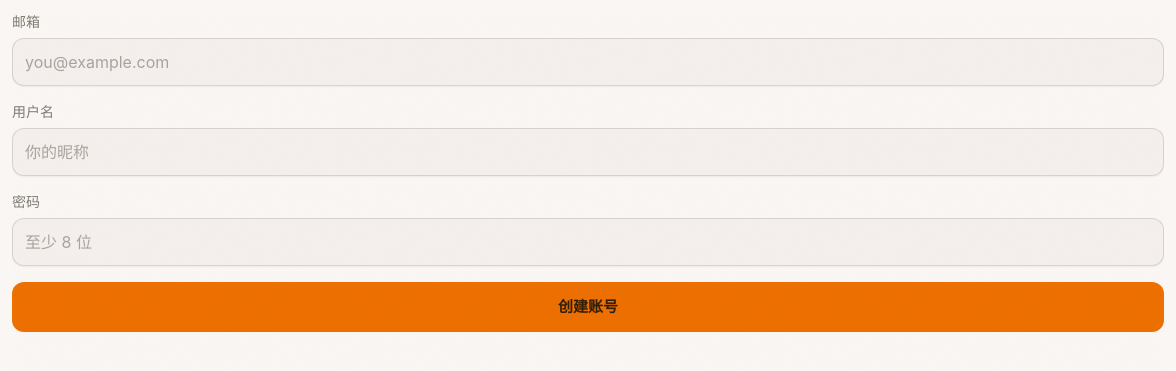
Test: RegisterForm › shows short username validation error
This screenshot has width=1176, height=371.
Type "a@b.com" into the field labelled "邮箱" at (588, 62), box [12,38,1164,86]
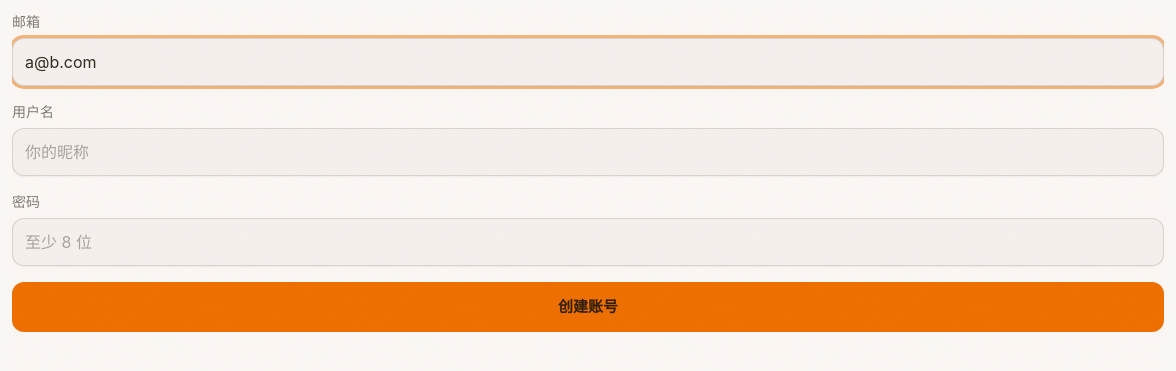
Type "x" into the field labelled "用户名" at (588, 152), box [12,128,1164,176]
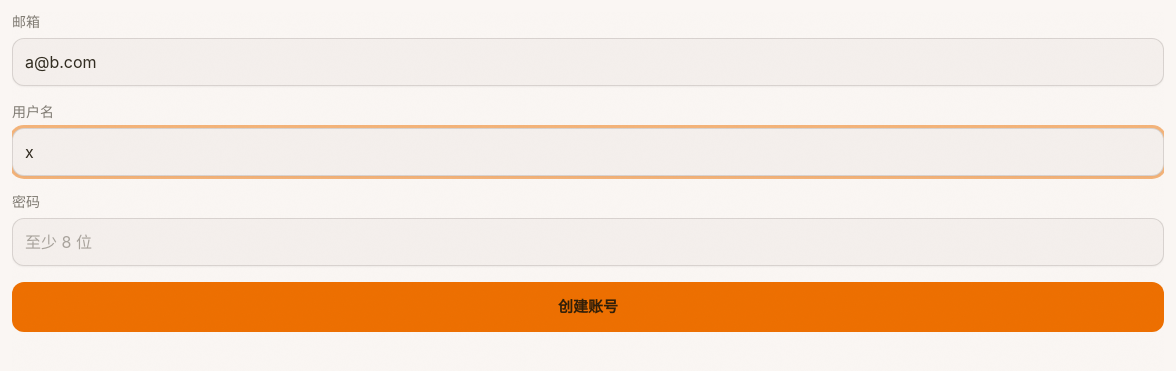
Type "password123" into the password field labelled "密码" at (588, 242), box [12,218,1164,266]
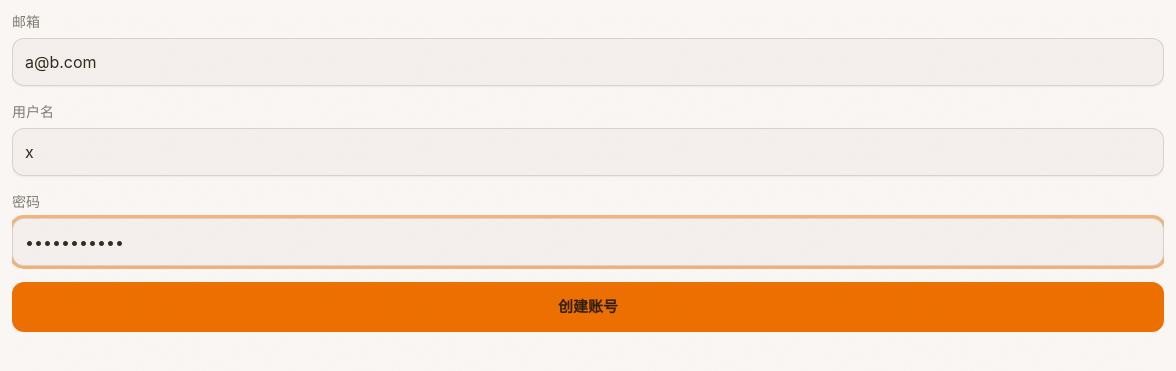
Click the button at (588, 307), box [12,282,1164,332]
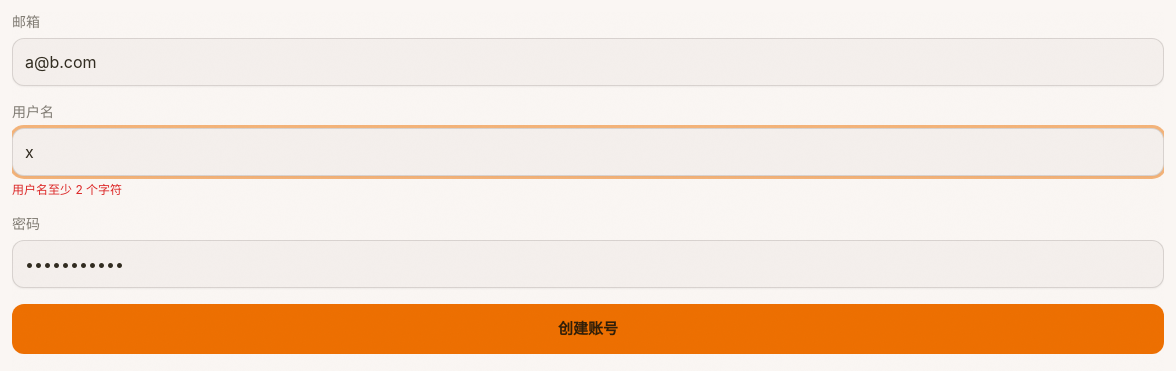
Result: the text "用户名至少 2 个字符" is shown at [12,182,122,197]
